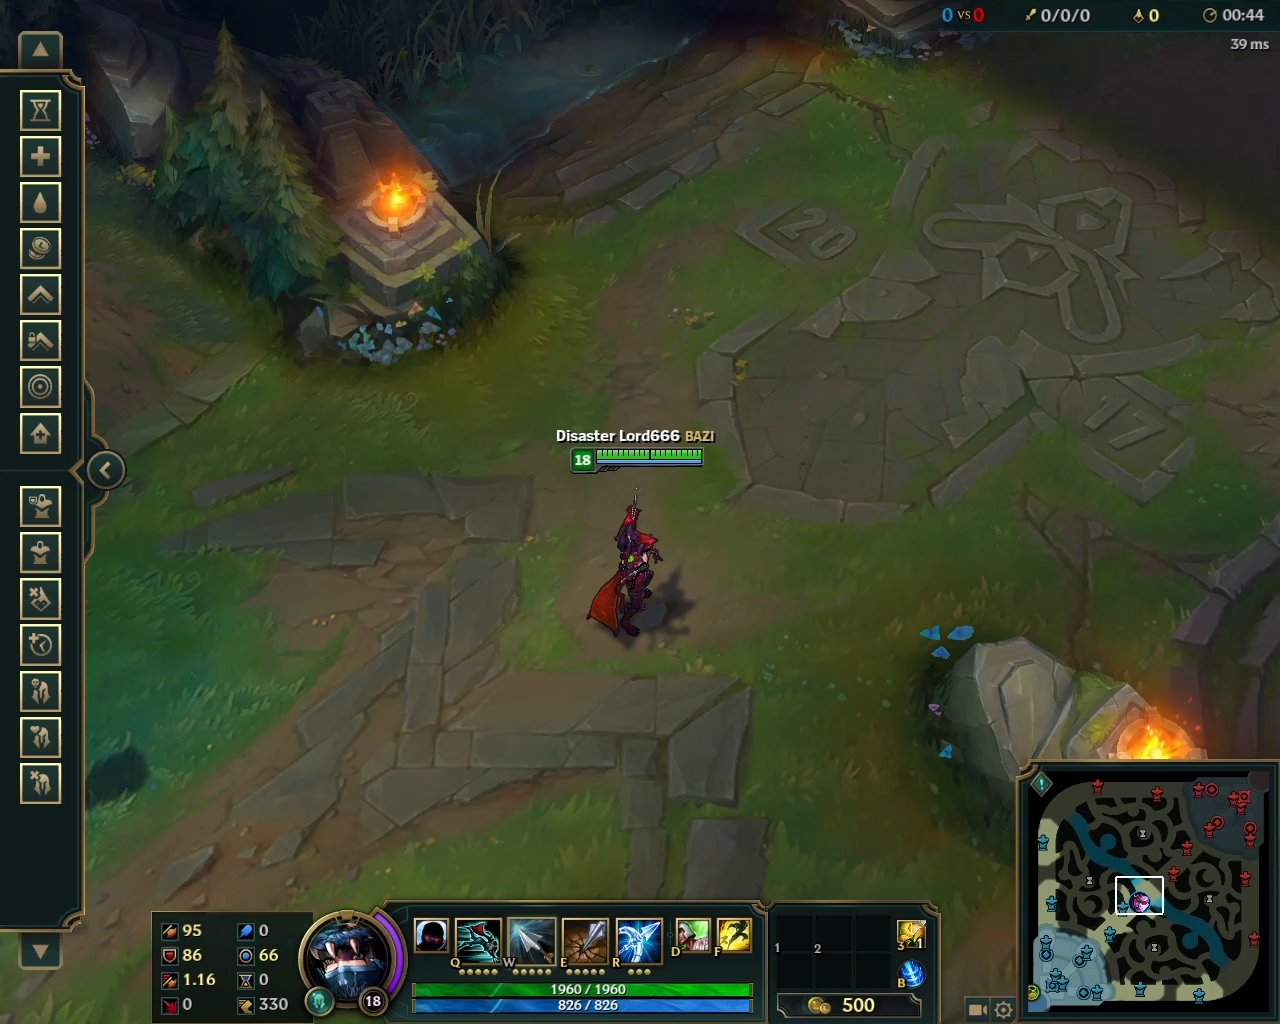Vayne: (578, 484, 674, 645)
